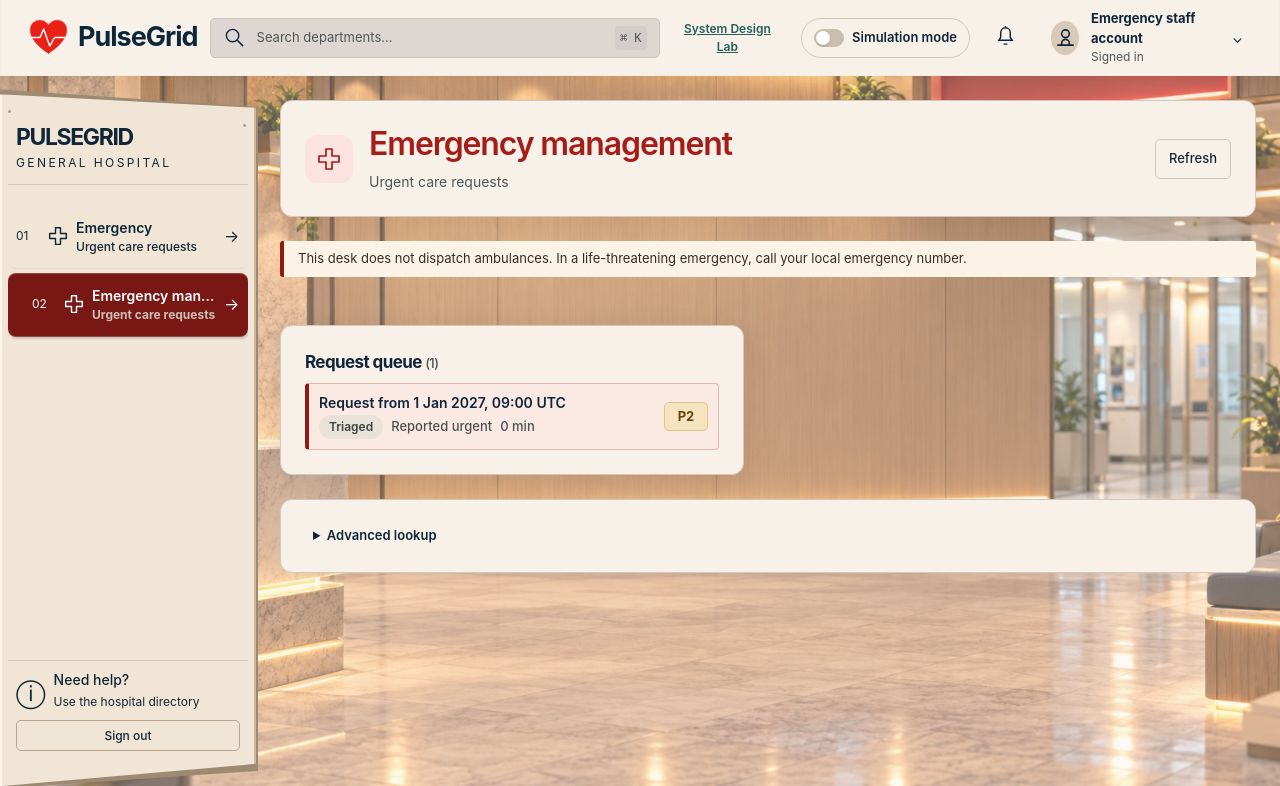
it: billing, emergency, doctor and administration workflows › claims requests conditionally without arbitrary staff ID
Click the button with aria-label "Track request 121".
click(512, 416)  # box [305, 383, 719, 450]
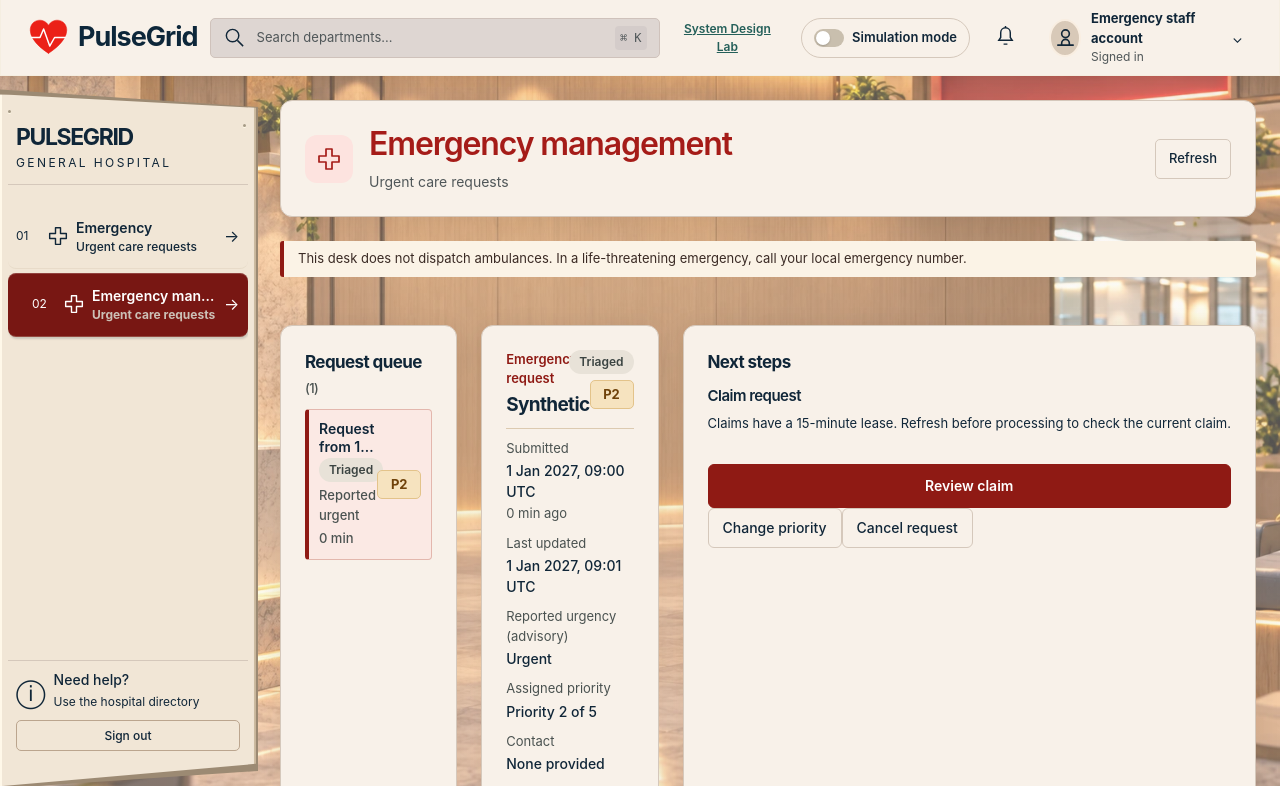
expect the button "Review claim" is shown: met
Click the button "Review claim".
click(969, 486)  # box [708, 464, 1231, 508]
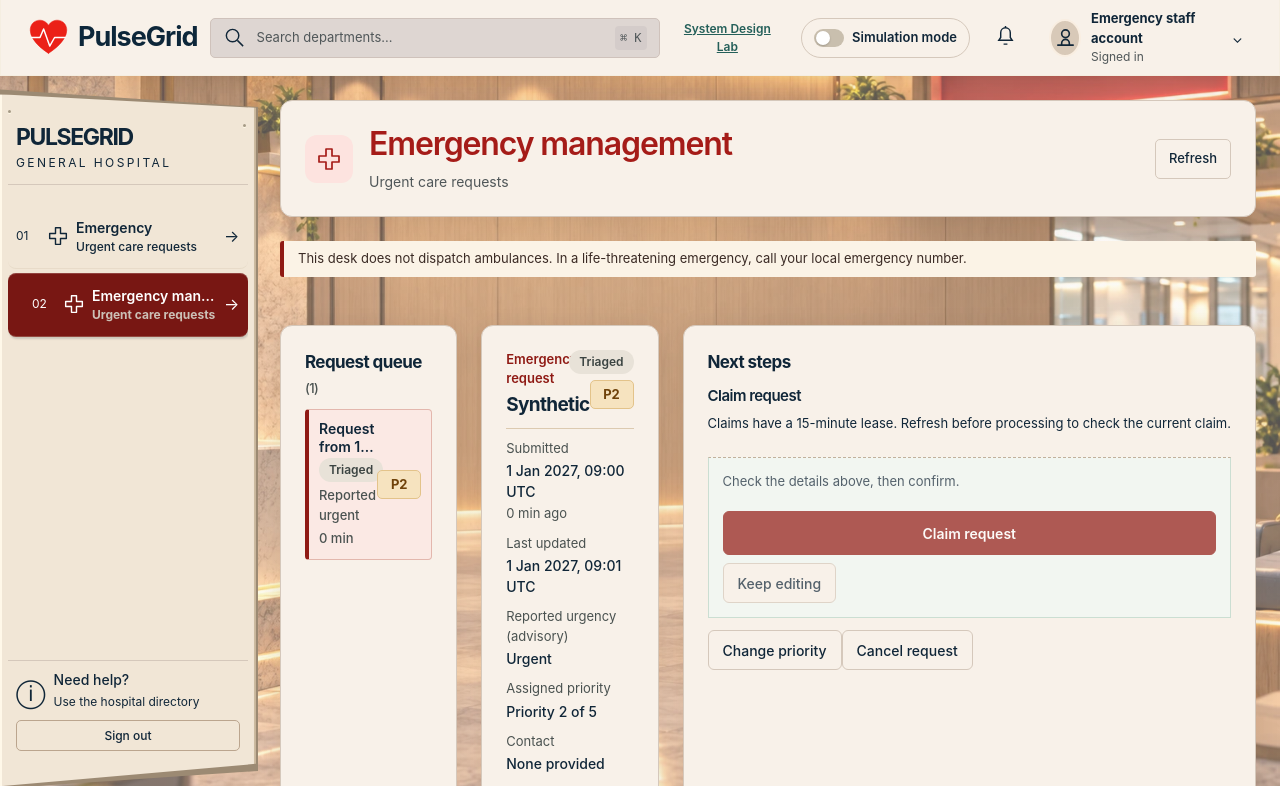
Click the button "Claim request".
click(969, 533)  # box [722, 511, 1216, 555]
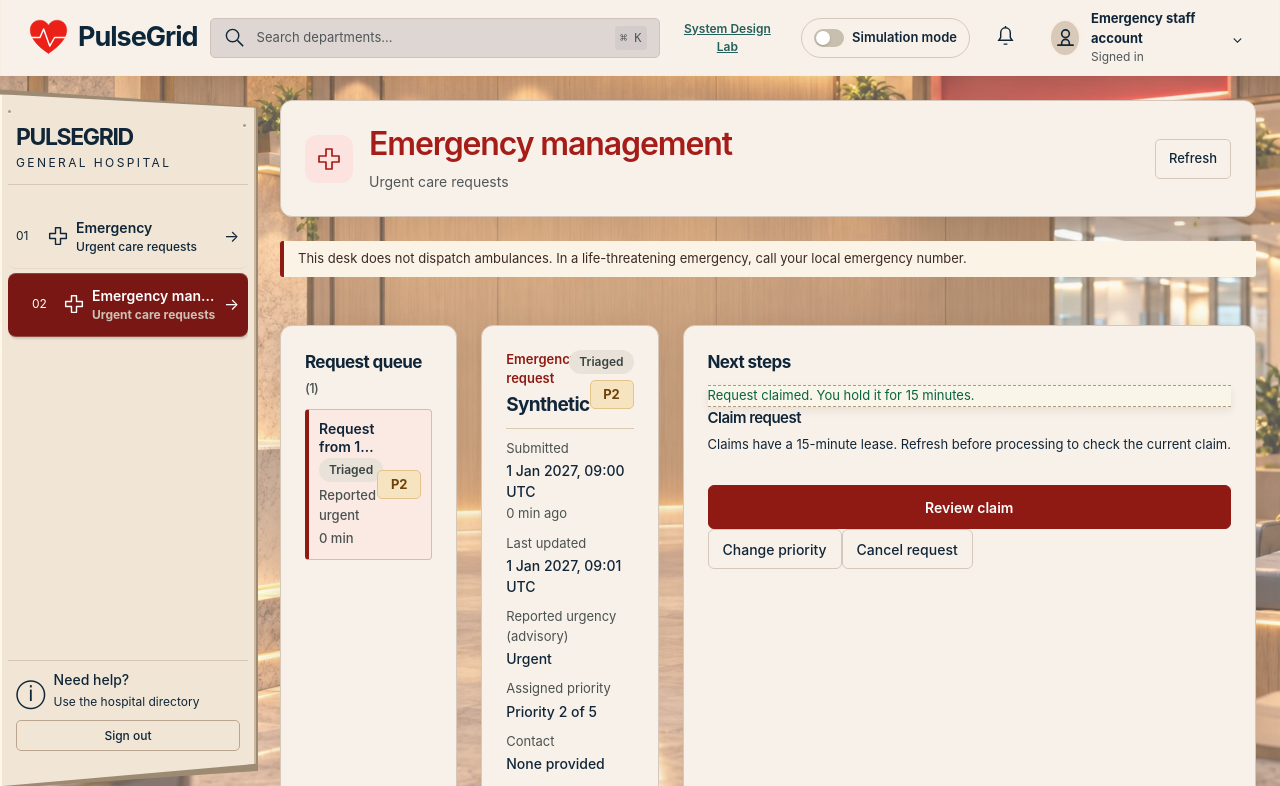
expect the text "Request claimed. You hold it for 15 minutes." is shown: met, box [708, 385, 1231, 407]
